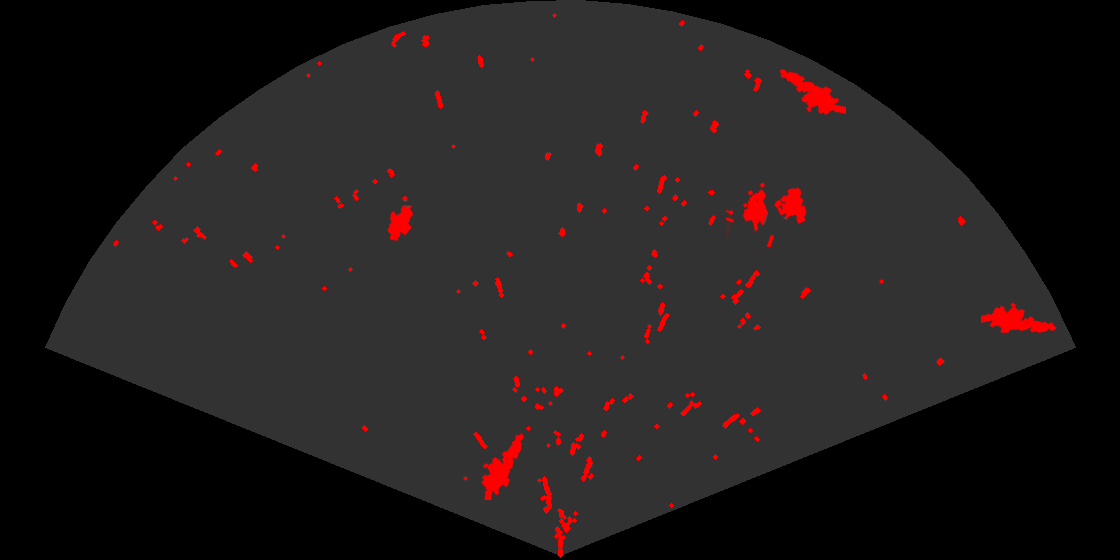AUV: (386, 194, 414, 243)
cage: (726, 181, 808, 247)
frogman: (778, 68, 846, 116), (480, 432, 525, 500), (981, 301, 1058, 335)
